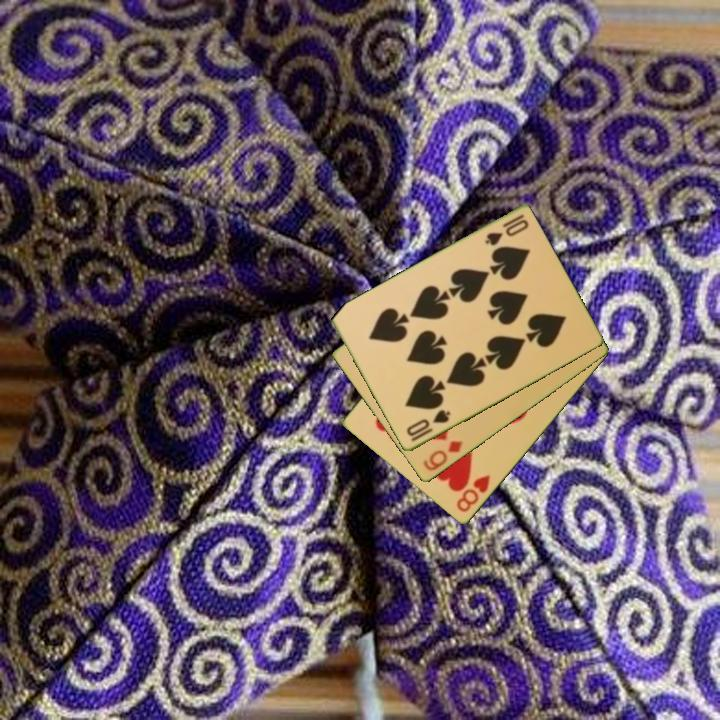10s: (403, 406, 453, 444), (481, 211, 531, 249)
6d: (420, 437, 466, 474)
8h: (453, 472, 493, 515)
